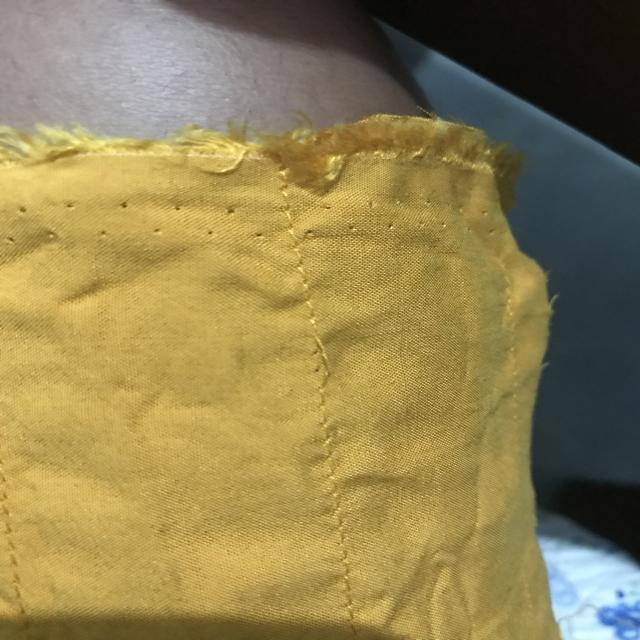good: (320, 468, 368, 583)
skip: (288, 310, 354, 402)
